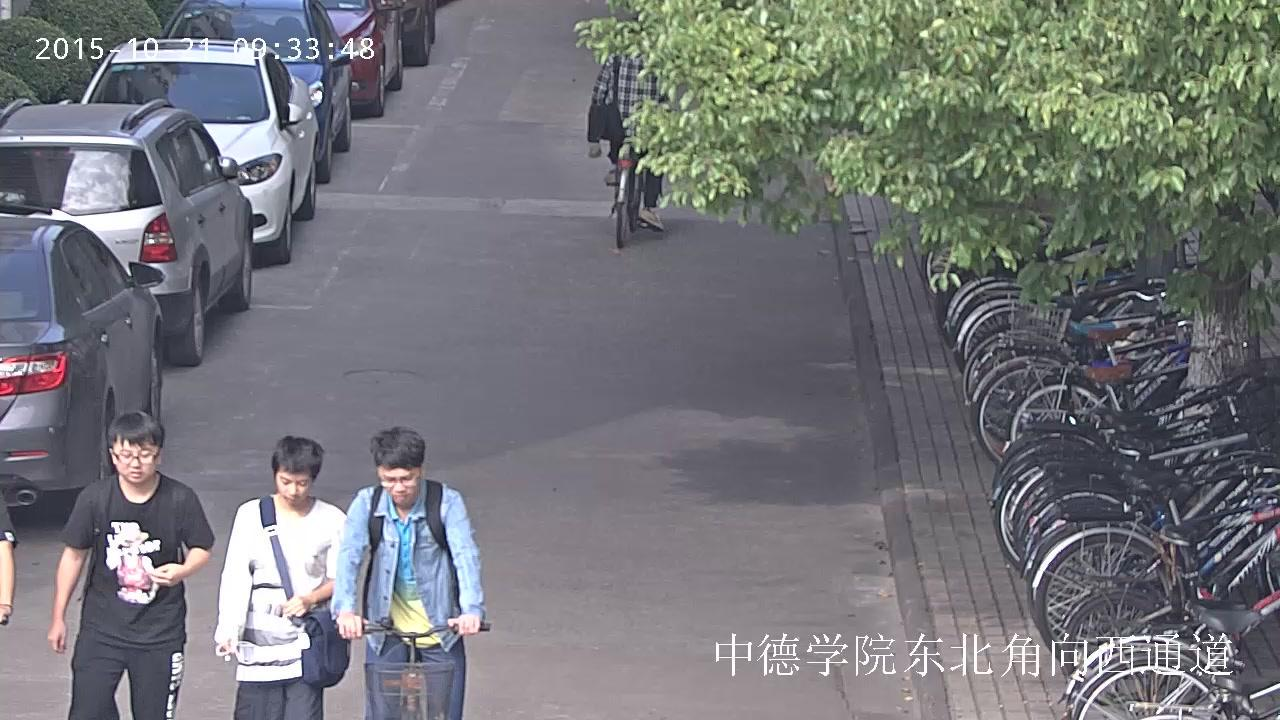face: (113, 434, 155, 483), (378, 465, 418, 505), (276, 467, 309, 504)
